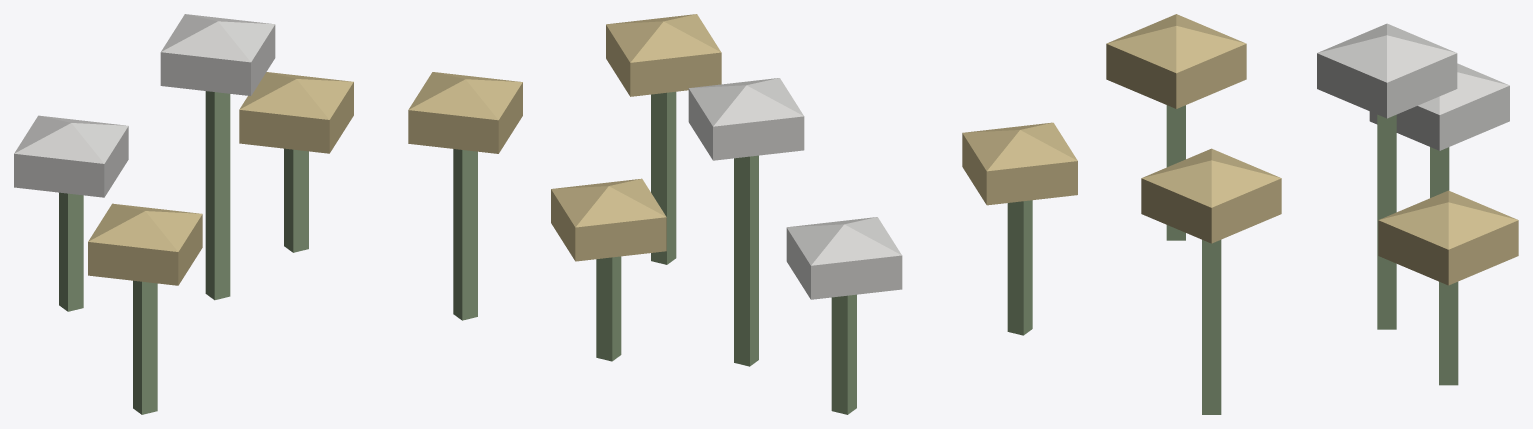
File: wildflowers.glb
The picture shows the model from 3 angles, left to right: view 1: azimuth 30°, elevation 25°; view 2: azimuth 150°, elevation 25°; view 3: azimuth 270°, elevation 25°; orthographic projection. The views are drawn at different scales.
Parts seen in each view (by area): view 1: wildflowers; view 2: wildflowers; view 3: wildflowers.
Part boxes in pixels (<box>): wildflowers: <box>14,14,522,414</box>; wildflowers: <box>551,14,1077,414</box>; wildflowers: <box>1106,14,1518,414</box>.
Size of the model in its own units: 0.21 by 0.1217 by 0.1567.
